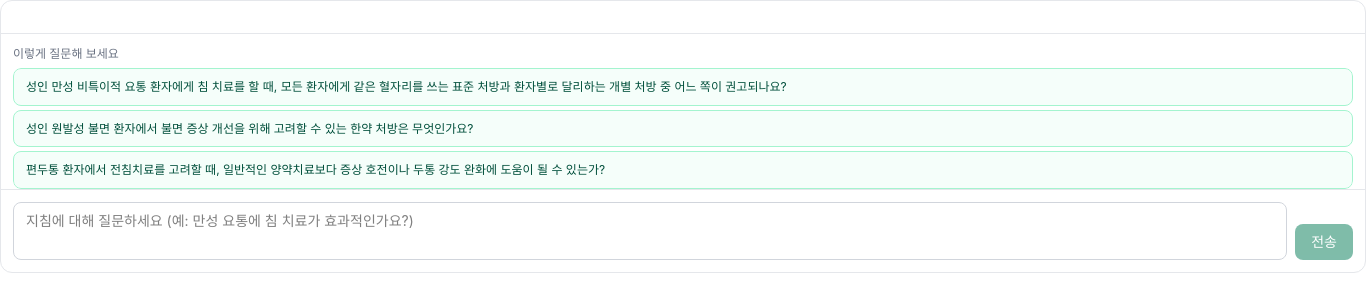
it: ChatPanel 기권 사유 스트림 경로 (수용 기준 16) › 기준 16-a: answer.abstained는 message.abstainReason 문장을 화면에 보여준다
In the text box named "질문 입력": (650, 230) [13,202,1287,260], type "관련 근거가 있는지 알려 주세요."
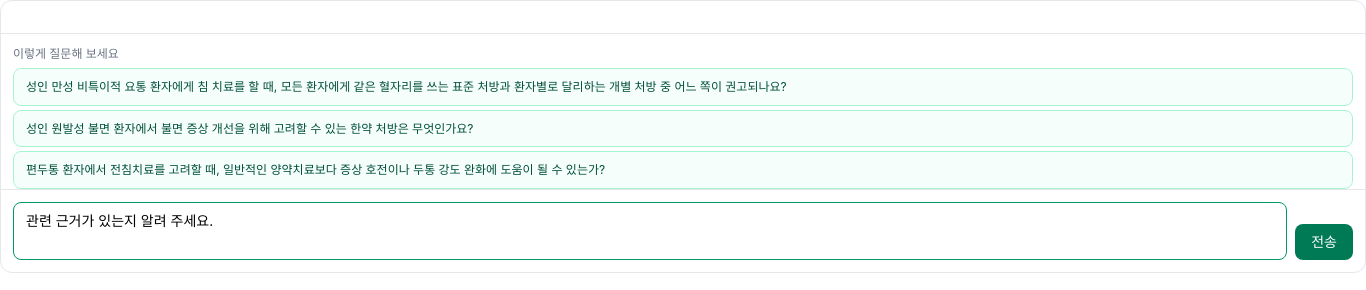
Click the button "전송": click(1324, 242) [1295,224,1353,260]
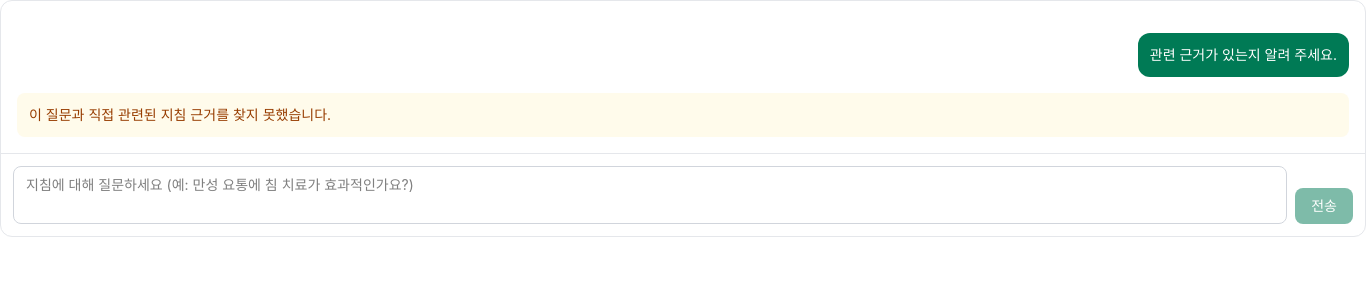
Check: the text "이 질문과 직접 관련된 지침 근거를 찾지 못했습니다." is shown, box [17,93,1349,137]
